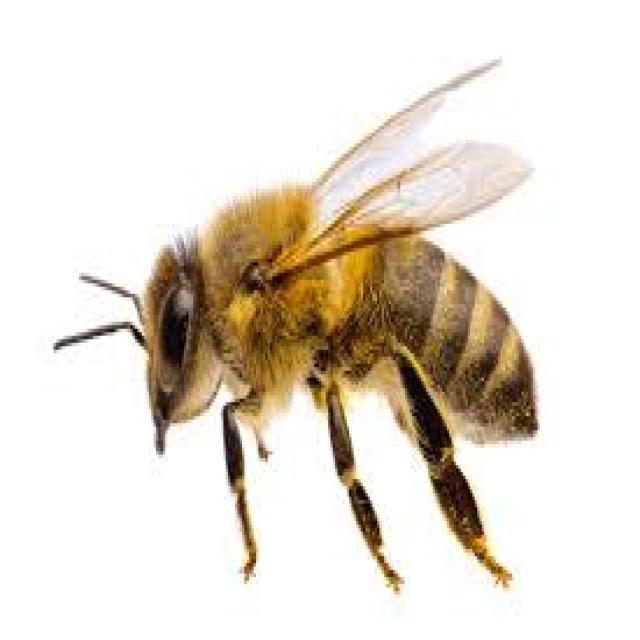Bees: (50, 55, 540, 589)
